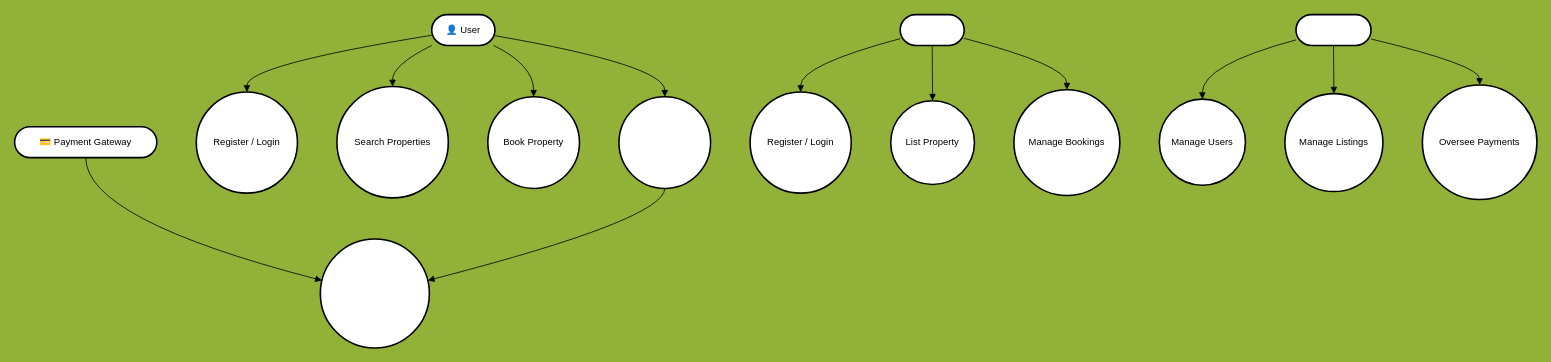
Some shapes in this 1551 by 362 pixel diagram are drawn without their labels. The shapes that lost their labels are listed below. From the top down, each one's centre as x and y in pixels, then its label:
At (932,29): "🏠 Host".
At (1333,29): "👩‍💻 Admin".
At (664,142): "Make Payment".
At (374,293): "Process Payments".
